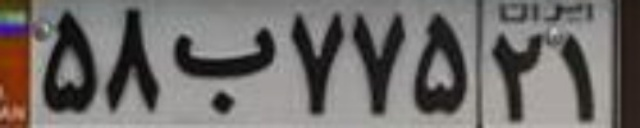1: (557, 34, 596, 120)
2: (491, 32, 544, 121)
5: (413, 11, 471, 115), (42, 12, 96, 111)
7: (289, 10, 346, 115), (350, 10, 406, 116)
8: (106, 6, 160, 112)
be: (170, 26, 277, 113)
